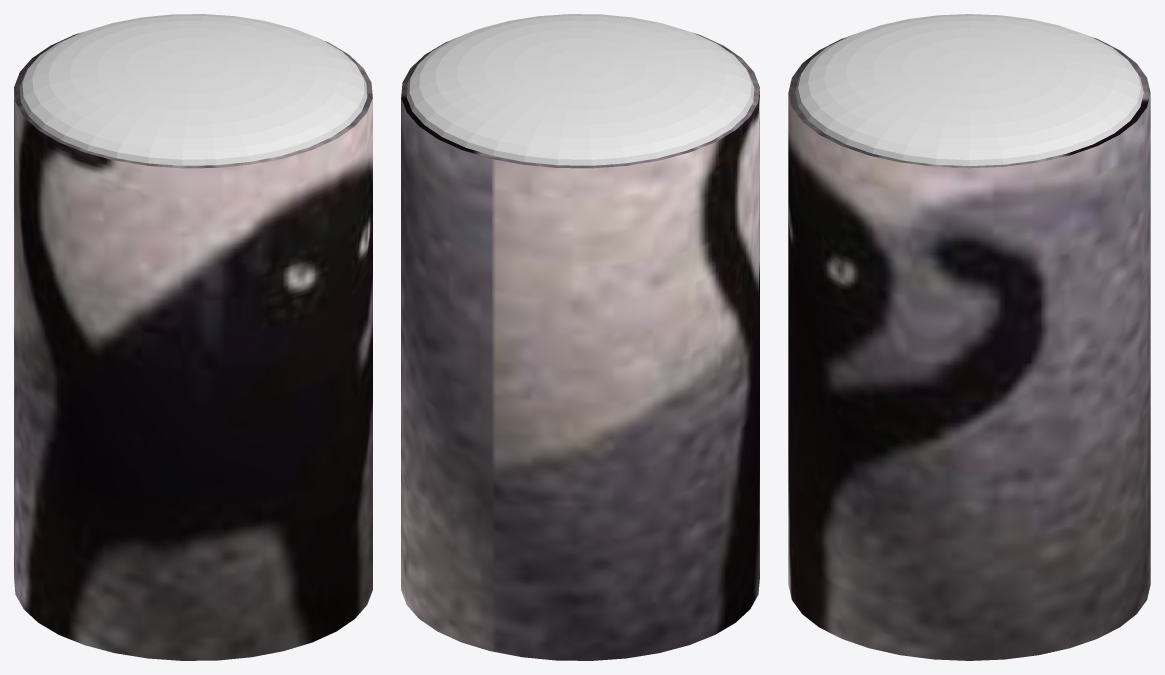
Rendered from cat food 2.fbx.
3 views of the same model, side by side, from view 1: azimuth 30°, elevation 25°; view 2: azimuth 150°, elevation 25°; view 3: azimuth 270°, elevation 25° (orthographic).
Parts seen in each view (by area): view 1: Cylinder, Sphere; view 2: Cylinder, Sphere; view 3: Cylinder, Sphere.
Part boxes in pixels (x1,y1,x2,y2): Cylinder: (14,33,372,660); Sphere: (19,14,367,165); Cylinder: (401,33,759,660); Sphere: (406,14,754,165); Cylinder: (788,37,1150,660); Sphere: (795,14,1143,165).
Bounding box in the file's own units: 79.24 × 127 × 80.
1 material, 1 textured.
